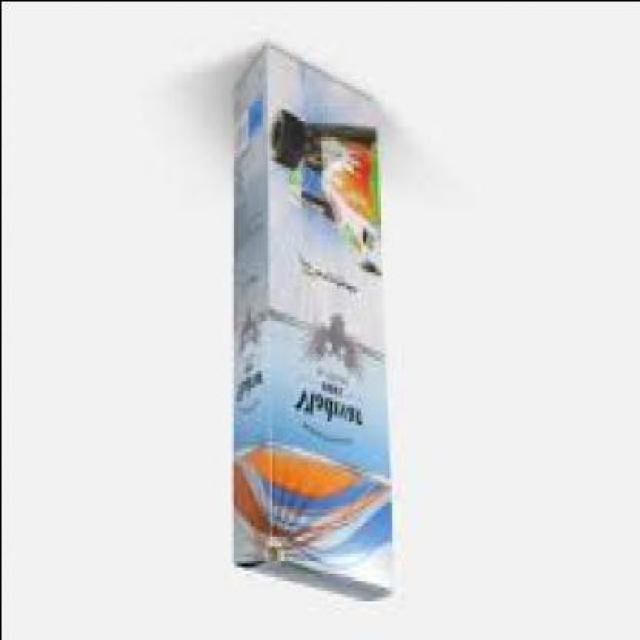box: (228, 48, 391, 600)
